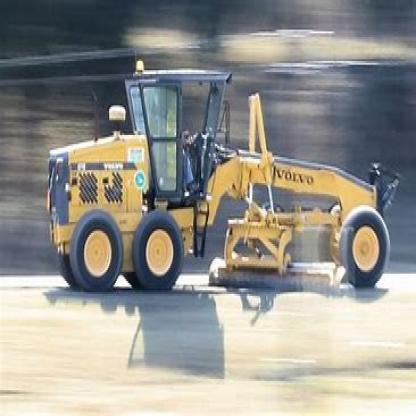bull_dozer/loader/grader: (44, 55, 394, 320)
